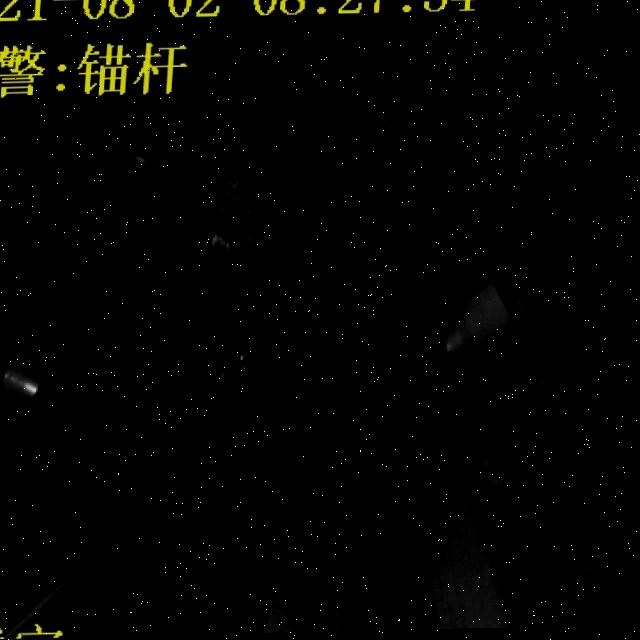bolt: (13, 428, 203, 637)
large_sized_coal: (200, 173, 289, 284)
